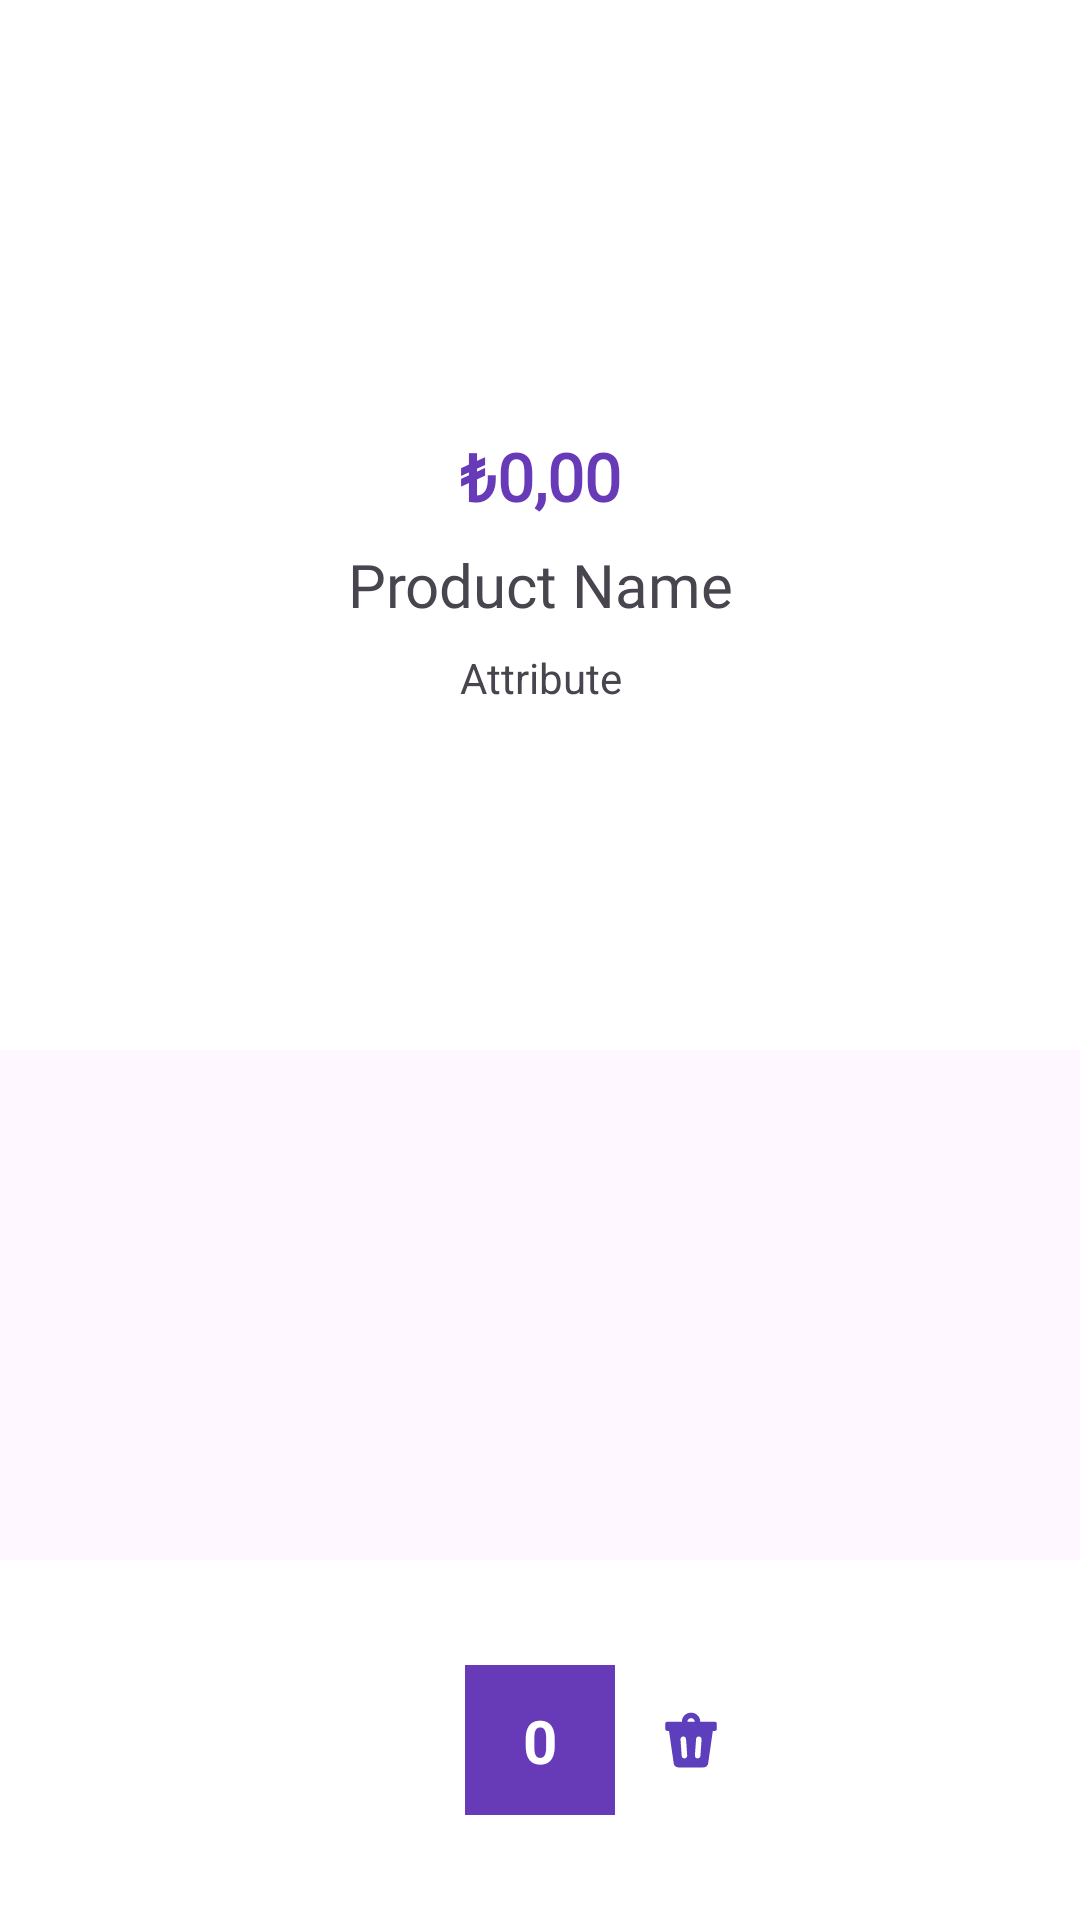

Icon click points for this 1080w x 1920h phone screenshot, format (x,y):
trash: (691,1740)
